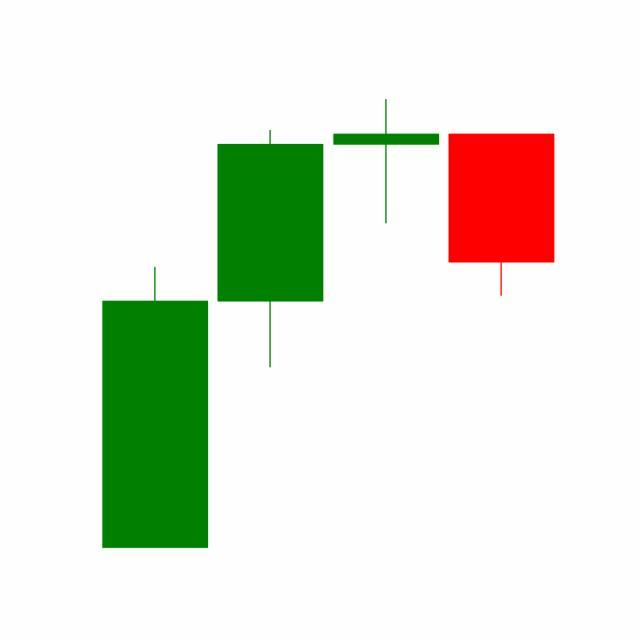Spinning Top: (329, 98, 445, 225)
